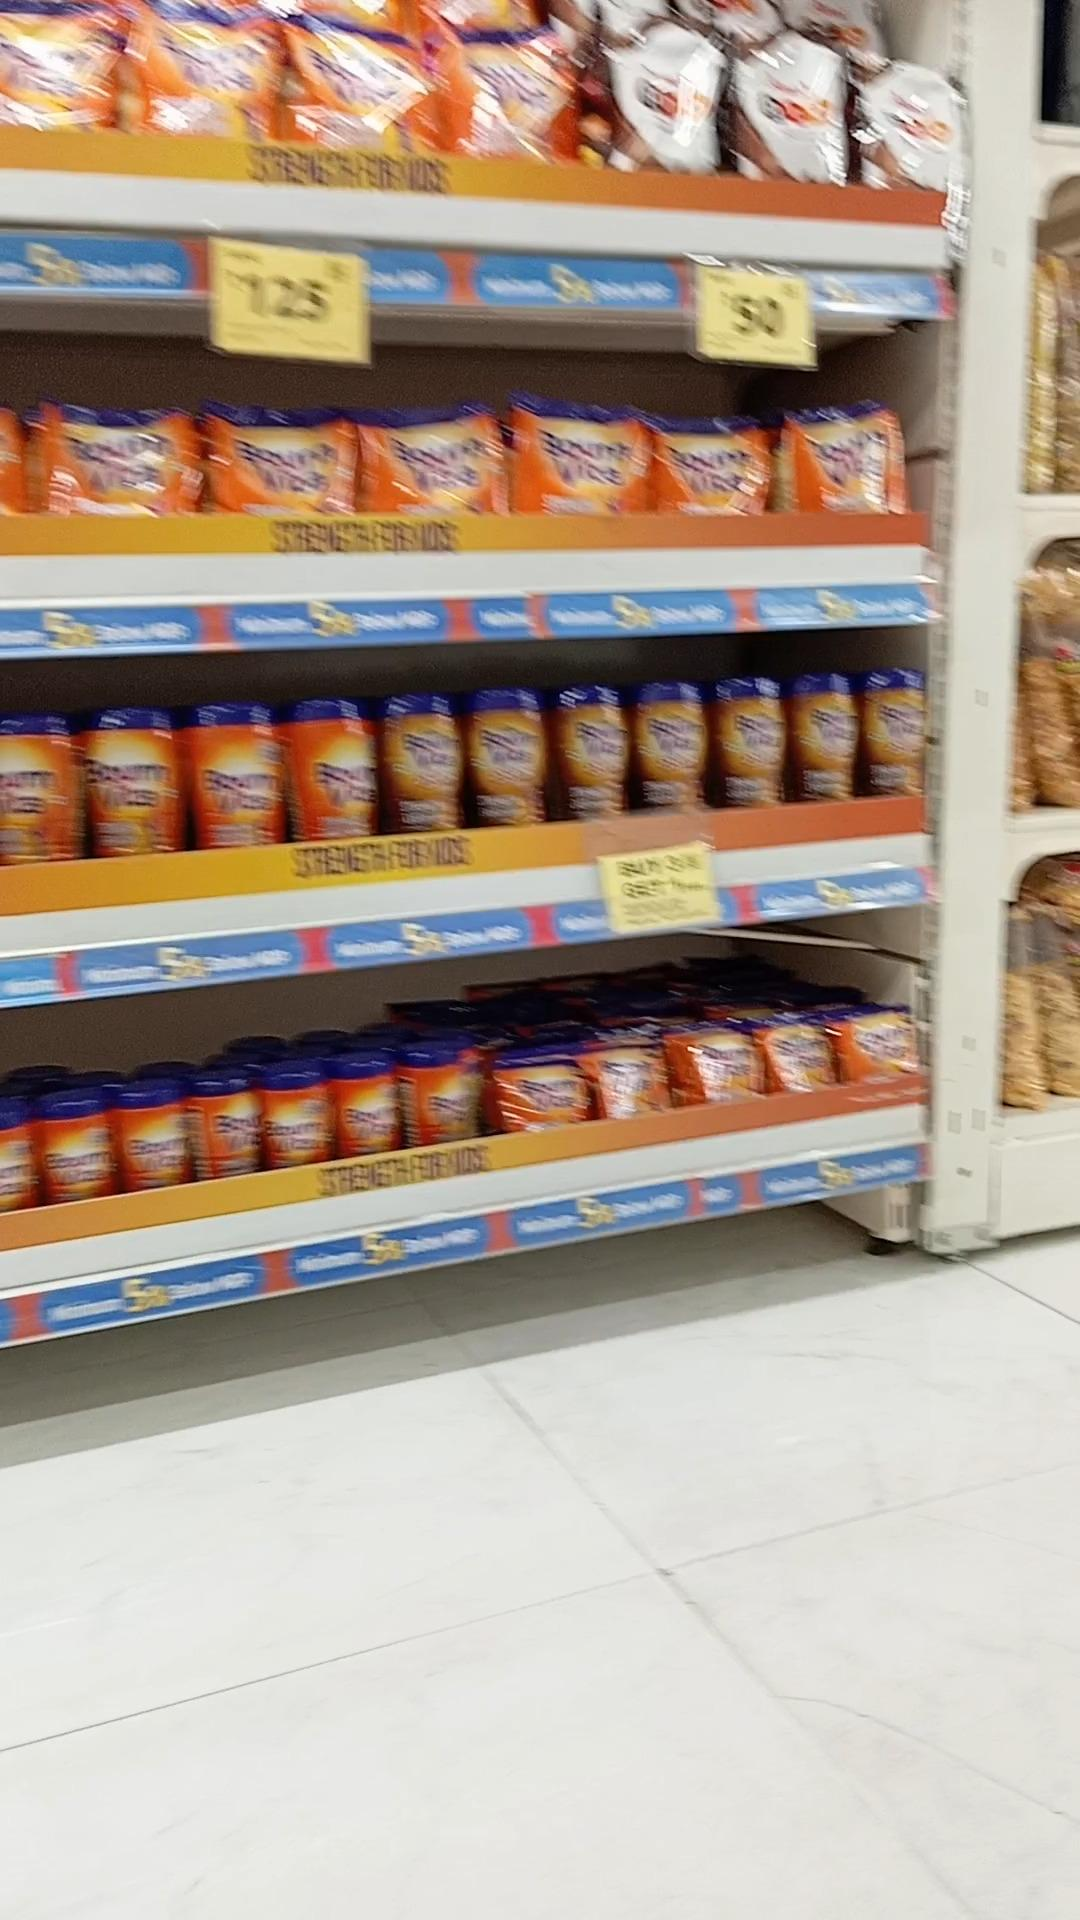BOURN_VITA_200_G_JAR: (115, 1087, 182, 1192), (34, 1097, 103, 1200), (258, 1072, 320, 1179), (331, 1058, 393, 1160), (417, 1046, 472, 1154), (202, 1076, 258, 1179)
BOURN_VITA_500_G_JAR: (189, 700, 282, 849), (90, 695, 178, 851), (0, 708, 82, 873), (291, 695, 372, 848)
BOURN_VITA_500_G_POUCH: (44, 390, 194, 520), (521, 405, 646, 520), (368, 409, 497, 520), (210, 410, 344, 514), (651, 411, 762, 517), (790, 405, 886, 520)
BOURN_VITA_750_G_POUCH: (137, 12, 281, 142), (299, 15, 433, 154), (455, 28, 576, 164)
BOURN_VITA_75_G_POUCH: (505, 1050, 587, 1135), (692, 1019, 760, 1105), (765, 1015, 829, 1102), (852, 1005, 916, 1073)
BOURN_VITA_FIVE_STAR_MAGIC_500_G_JAR: (378, 691, 462, 840), (468, 680, 546, 829), (715, 670, 785, 814), (790, 665, 856, 811), (559, 676, 625, 822), (632, 679, 699, 814), (868, 663, 922, 793)
